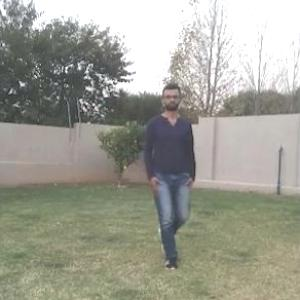follow: (152, 96, 191, 252)
